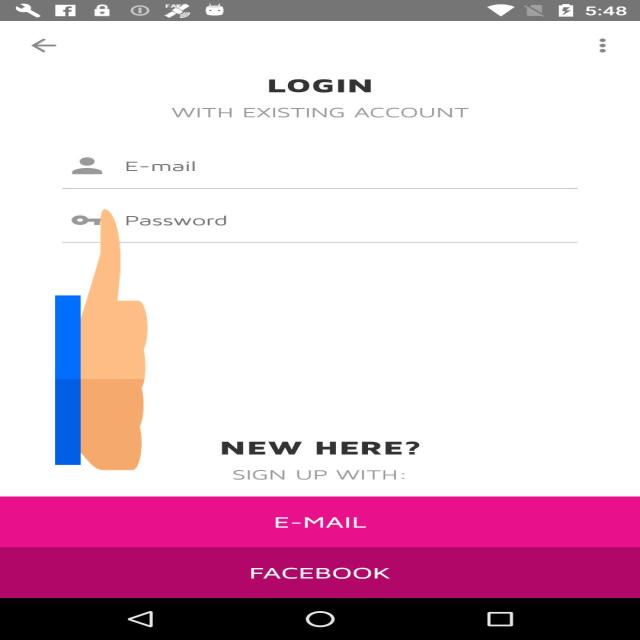privacy zuckering: (55, 203, 148, 477)
